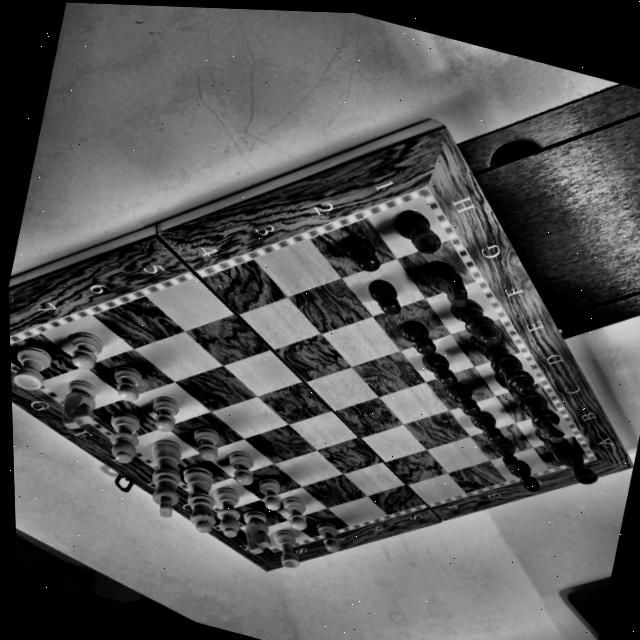black-bishop: (441, 290, 511, 351), (512, 404, 571, 447)
black-king: (484, 362, 577, 440)
black-knight: (415, 255, 478, 313), (526, 424, 592, 469)
black-pawn: (329, 225, 389, 277), (358, 270, 411, 319), (391, 314, 442, 359), (437, 376, 486, 420), (415, 346, 464, 390), (462, 404, 510, 447), (500, 453, 546, 495), (484, 431, 525, 473)
black-queen: (459, 327, 547, 398)
black-rook: (385, 204, 447, 259), (545, 446, 605, 489)
white-bishop: (99, 405, 148, 468), (206, 483, 247, 543)
white-king: (131, 433, 192, 523)
white-knight: (51, 372, 109, 438), (232, 504, 278, 560)
white-pawn: (58, 322, 110, 374), (102, 358, 148, 406), (144, 389, 185, 437), (220, 447, 260, 489), (186, 421, 224, 465), (307, 515, 346, 555), (250, 472, 287, 514), (275, 493, 313, 533)
white-queen: (168, 459, 228, 537)
white-rook: (10, 338, 58, 398), (265, 525, 307, 572)
